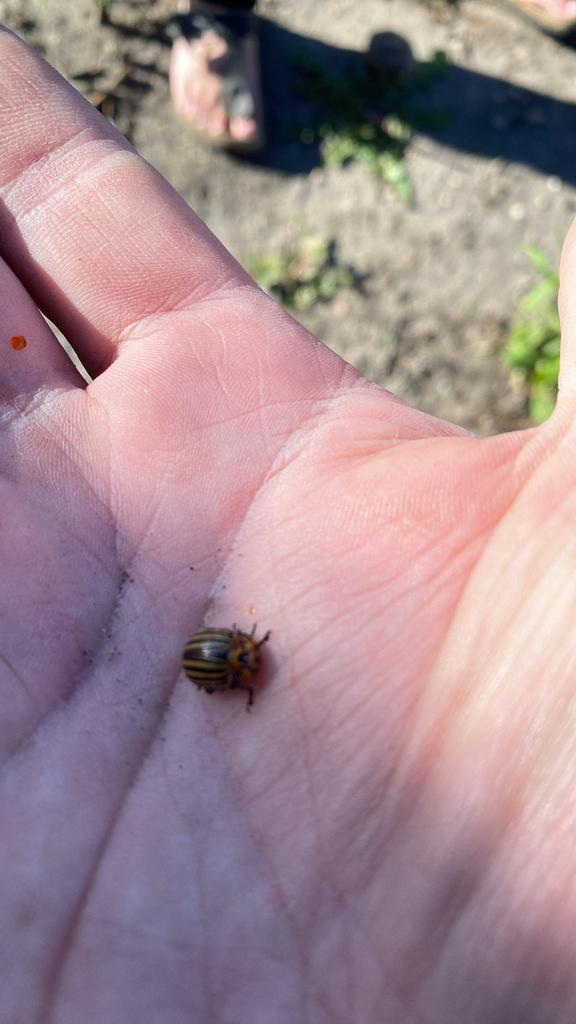potato_beetle: (165, 598, 313, 734)
